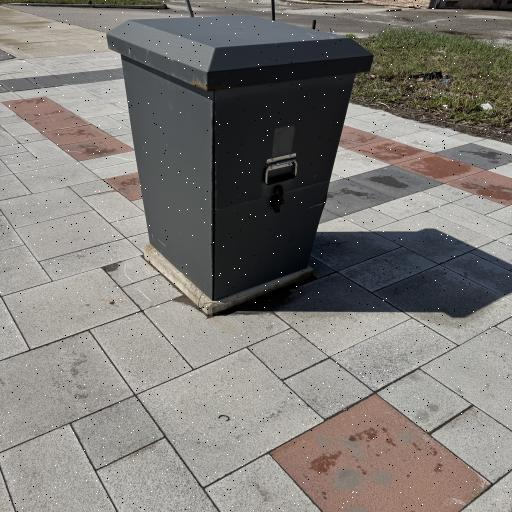Electrical Box: (108, 17, 374, 299)
